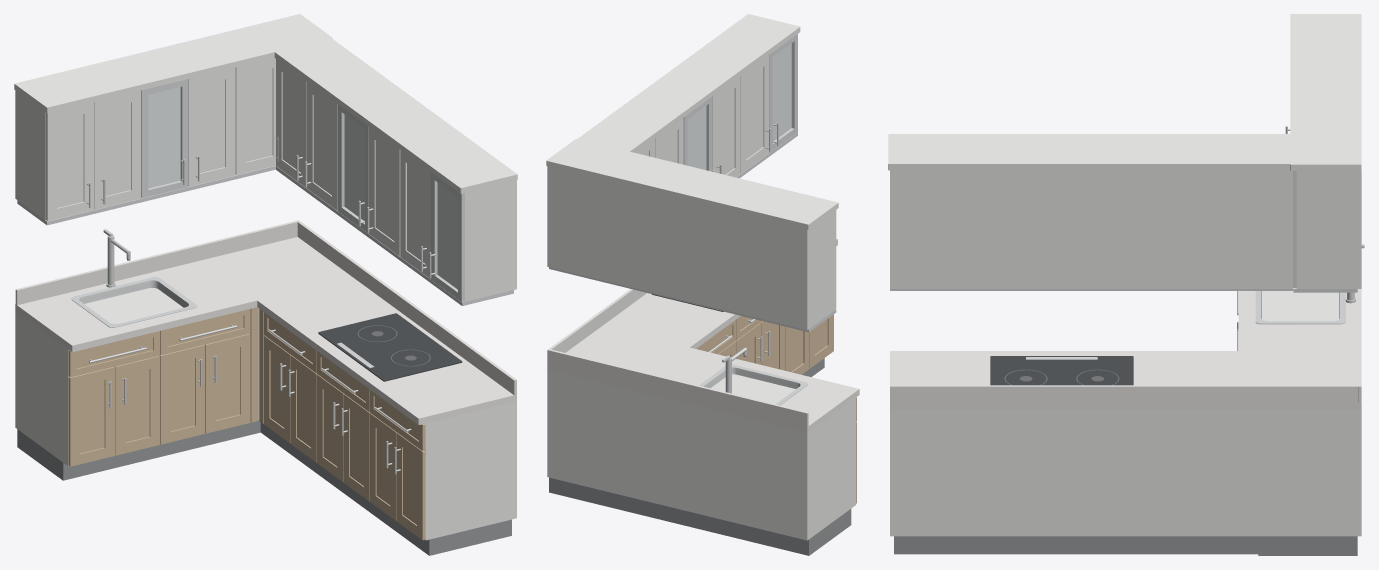
3 renders of one model, left to right at view 1: azimuth 30°, elevation 25°; view 2: azimuth 150°, elevation 25°; view 3: azimuth 270°, elevation 25°, orthographic. The views are drawn at different scales.
Visible parts, largest first — view 1: Tủ bếp chữ L Dài cạnh chính=1800; Dài cạnh phụ=2400; Sâu tủ ; view 2: Tủ bếp chữ L Dài cạnh chính=1800; Dài cạnh phụ=2400; Sâu tủ ; view 3: Tủ bếp chữ L Dài cạnh chính=1800; Dài cạnh phụ=2400; Sâu tủ .
Boxes of the visible parts, box(x1,y1,x2,y2) form: Tủ bếp chữ L Dài cạnh chính=1800; Dài cạnh phụ=2400; Sâu tủ : box(14, 14, 517, 555); Tủ bếp chữ L Dài cạnh chính=1800; Dài cạnh phụ=2400; Sâu tủ : box(546, 14, 859, 555); Tủ bếp chữ L Dài cạnh chính=1800; Dài cạnh phụ=2400; Sâu tủ : box(888, 14, 1364, 555).
Bounding box in the file's own units: 1.82 × 2.2 × 2.42.
